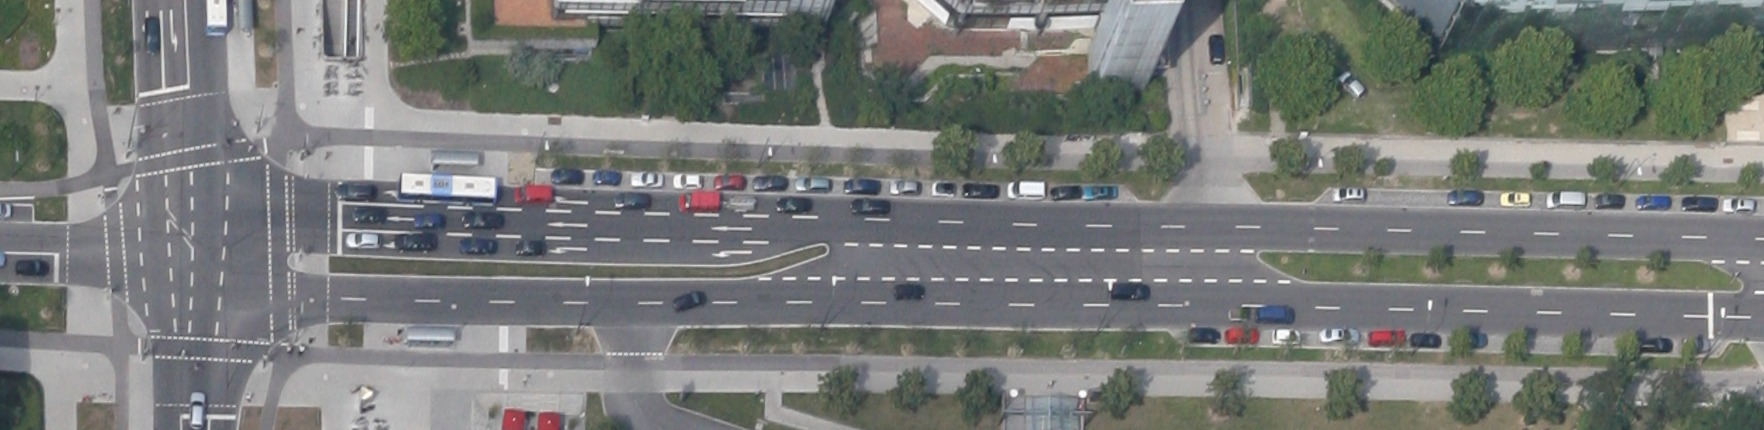car: (1335, 68, 1367, 102), (336, 180, 377, 201), (677, 190, 718, 212), (395, 232, 436, 252), (461, 210, 505, 230), (514, 183, 552, 204), (1546, 189, 1584, 209), (1110, 283, 1149, 301), (1255, 305, 1294, 323), (614, 190, 650, 209), (1007, 180, 1043, 199), (672, 290, 705, 311), (459, 238, 496, 256), (1318, 326, 1358, 343), (13, 258, 49, 276), (850, 197, 886, 215), (188, 391, 205, 429), (144, 16, 160, 55), (1446, 188, 1482, 205), (776, 195, 811, 212), (795, 176, 829, 192), (353, 204, 385, 222), (1368, 329, 1404, 344), (345, 231, 380, 247), (962, 182, 997, 198), (844, 177, 879, 192), (893, 283, 924, 301), (514, 239, 546, 256), (1635, 195, 1668, 210), (1082, 183, 1116, 199), (751, 174, 785, 190), (1271, 326, 1300, 344), (1641, 335, 1671, 353), (630, 171, 663, 187), (550, 168, 583, 183), (1681, 196, 1716, 210), (1208, 33, 1224, 64), (1188, 326, 1219, 342), (888, 179, 919, 195), (1410, 331, 1440, 347), (1593, 192, 1623, 208), (713, 173, 744, 189), (413, 213, 442, 229), (1225, 326, 1257, 341), (1722, 197, 1754, 212), (1500, 190, 1529, 206), (1332, 187, 1363, 201), (1051, 183, 1079, 199), (673, 173, 701, 189), (727, 195, 754, 210), (592, 169, 619, 185), (931, 180, 953, 196), (1227, 307, 1249, 321)
